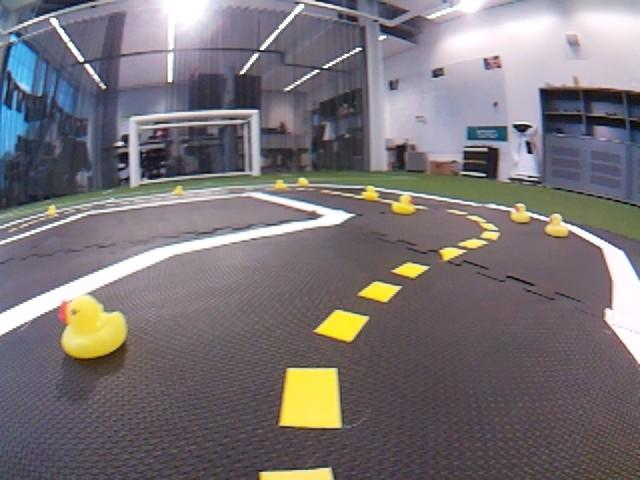Duckies: (55, 293, 129, 360), (544, 213, 570, 237), (391, 194, 416, 215), (509, 202, 531, 223), (360, 186, 379, 201), (45, 204, 57, 215), (274, 180, 287, 189), (173, 186, 184, 195), (297, 178, 308, 186)
